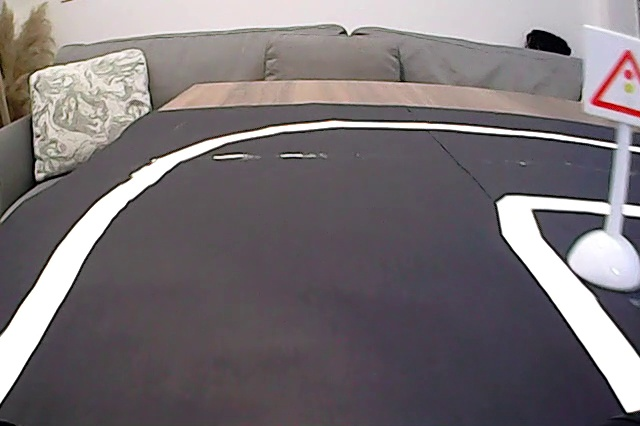red light: (585, 27, 640, 123)
